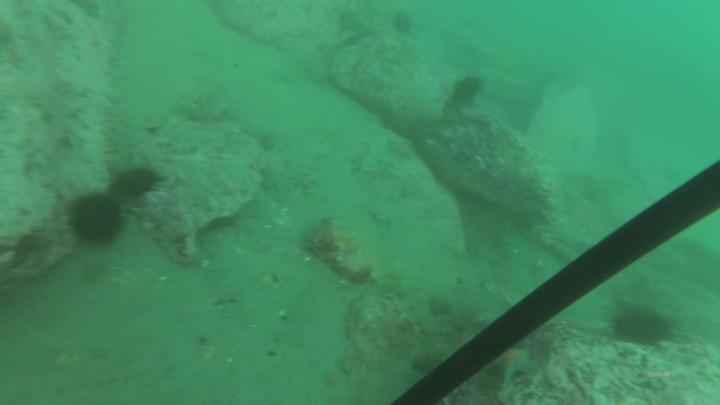echinus: (70, 193, 124, 246), (618, 309, 672, 345), (116, 168, 155, 199), (456, 76, 479, 100), (392, 13, 413, 36)
holothurian: (104, 110, 129, 172)
starfish: (497, 344, 535, 380)
